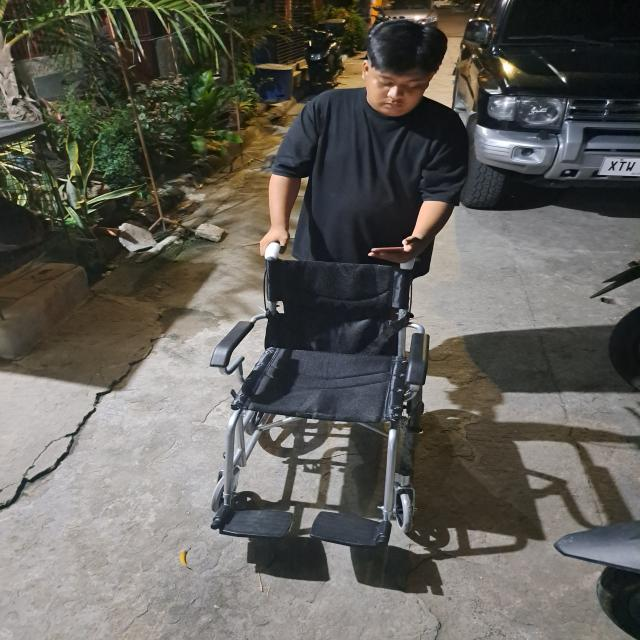wheelchairs: (204, 232, 432, 557)
